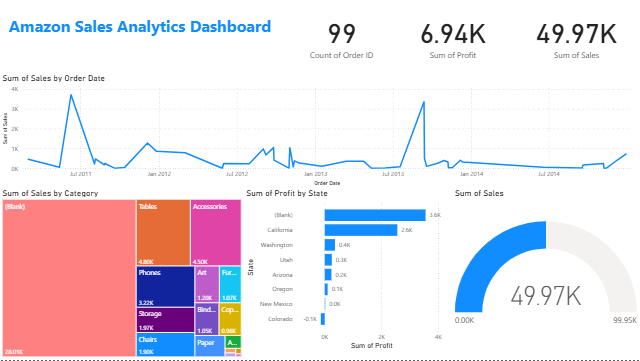

The page's visual inventory and layout, read from the dashboard file:
{"tool":"powerbi","page":{"name":"Page 1","canvas":[1280,720],"ordinal":0},"visuals":[{"type":"card","fields":{"Values":["Sum(Walmart.Sales)"]},"box":[1028.1,0,251.4,143.8],"z":0},{"type":"card","fields":{"Values":["Sum(Walmart.Profit)"]},"box":[781.3,0,246.8,143.8],"z":1000},{"type":"card","fields":{"Values":["CountNonNull(Walmart.Order ID)"]},"box":[570.9,0,227.1,143.8],"z":2000},{"type":"lineChart","fields":{"Category":["Walmart.Order Date"],"Y":["Sum(Walmart.Sales)"]},"box":[0,143.8,1279.5,231.7],"z":3000},{"type":"treemap","fields":{"Group":["Walmart.Category"],"Values":["Sum(Walmart.Sales)"]},"box":[0,375.5,487.6,343.7],"z":4000},{"type":"barChart","fields":{"Category":["Walmart.State"],"Y":["Sum(Walmart.Profit)"]},"box":[487.6,375.5,417.9,330.1],"z":5000},{"type":"gauge","fields":{"Y":["Sum(Walmart.Sales)"]},"box":[905.5,375.5,374,330.1],"z":6000},{"type":"textbox","box":[11.9,25.2,591.8,100.8],"z":7000}]}

Visuals, with their boxes in screenshot pixels (x1, y1, x2, y2), scaled from the page's 1280x720 canvas onto the 640x361 screenshot:
card - Sum(Walmart.Sales): [left=514, top=0, right=639, bottom=72]
card - Sum(Walmart.Profit): [left=391, top=0, right=514, bottom=72]
card - CountNonNull(Walmart.Order ID): [left=285, top=0, right=399, bottom=72]
lineChart - Walmart.Order Date x Sum(Walmart.Sales): [left=0, top=72, right=639, bottom=188]
treemap - Walmart.Category x Sum(Walmart.Sales): [left=0, top=188, right=244, bottom=360]
barChart - Walmart.State x Sum(Walmart.Profit): [left=244, top=188, right=453, bottom=354]
gauge - Sum(Walmart.Sales): [left=453, top=188, right=639, bottom=354]
textbox: [left=6, top=13, right=302, bottom=63]
